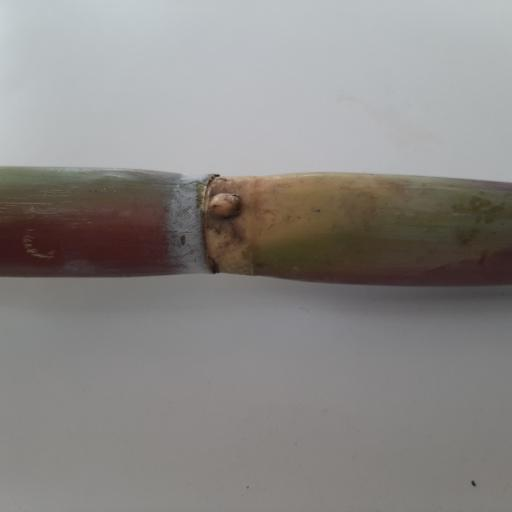Bud: (205, 190, 245, 218)
